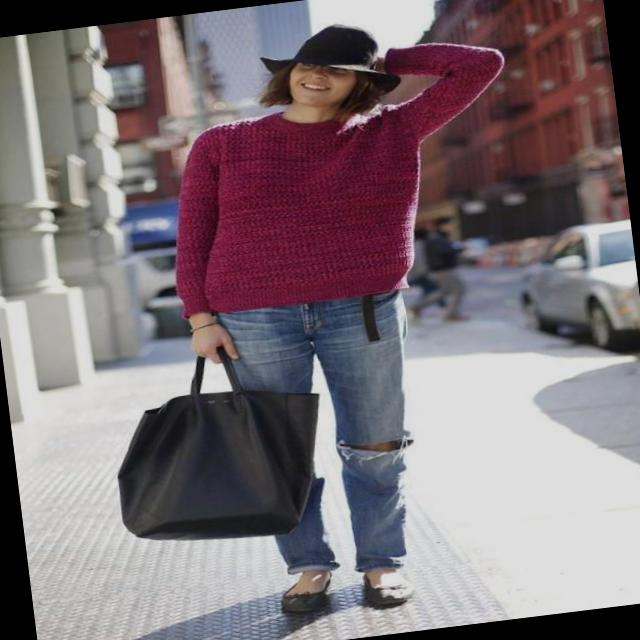pants: (212, 282, 434, 586)
sweater: (148, 32, 530, 320)
